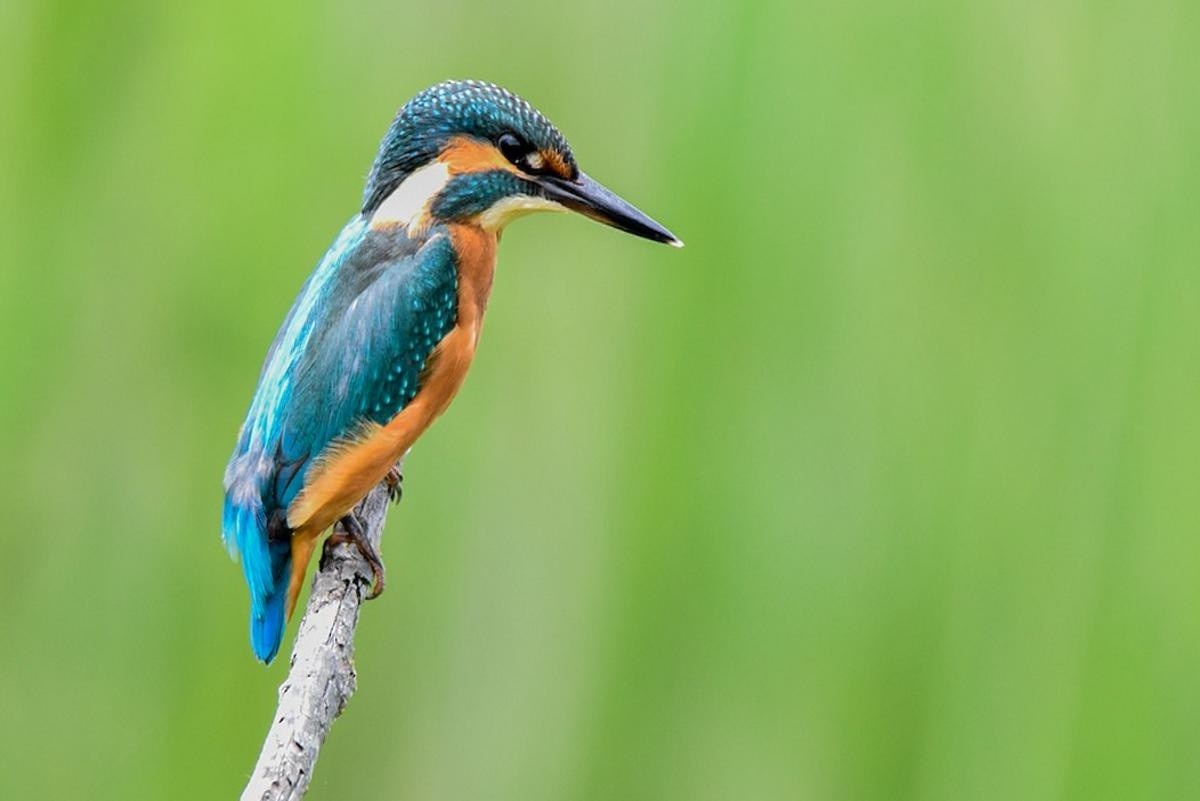kingfisher: (226, 81, 685, 665)
